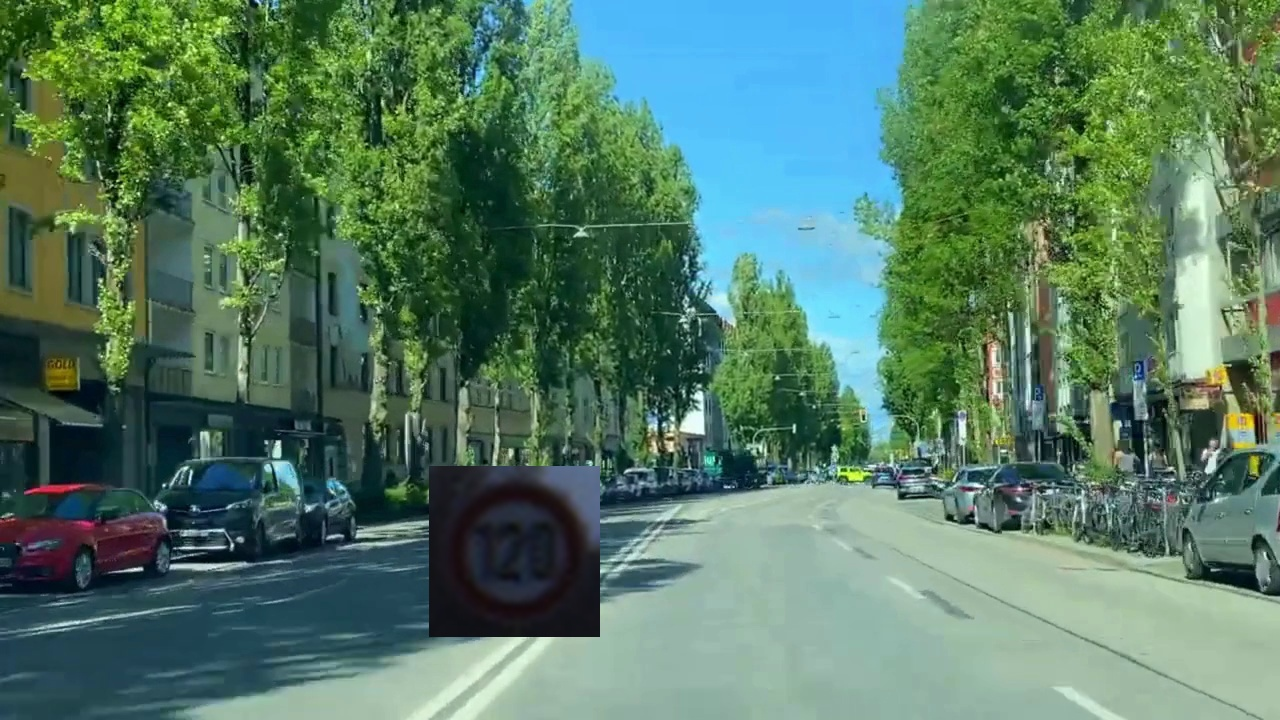Speed 120: (429, 466, 600, 637)
